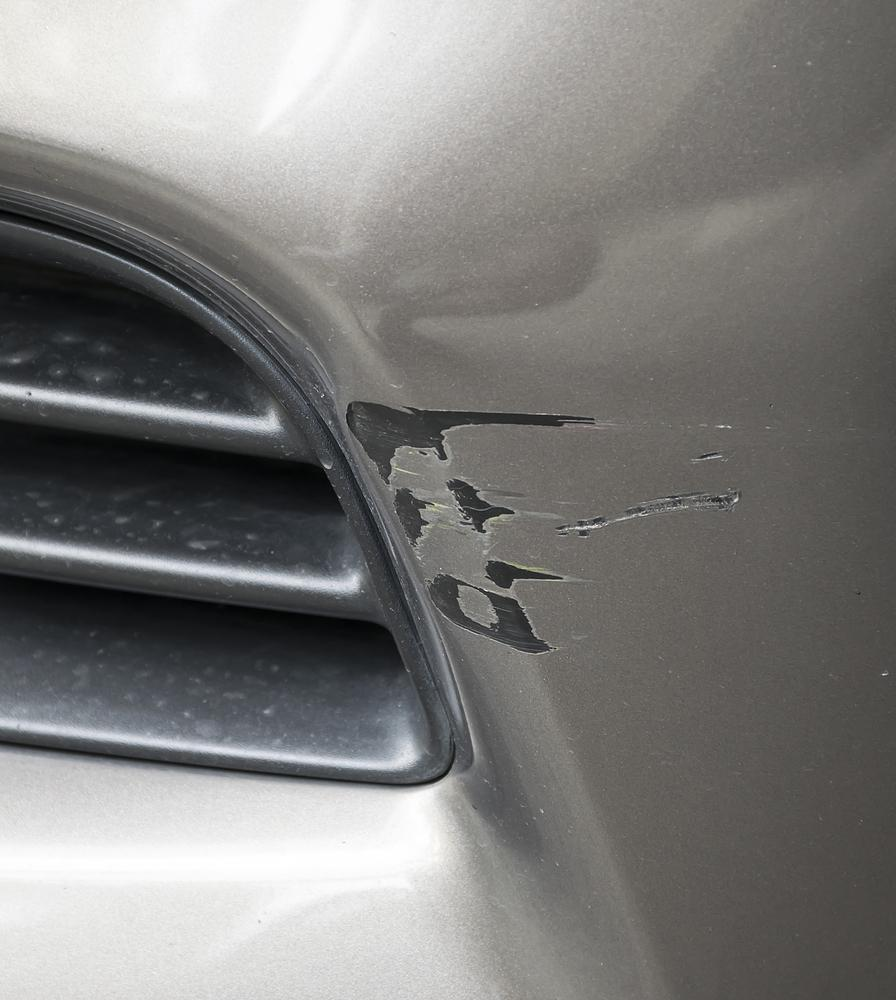scratch: (342, 392, 780, 661)
